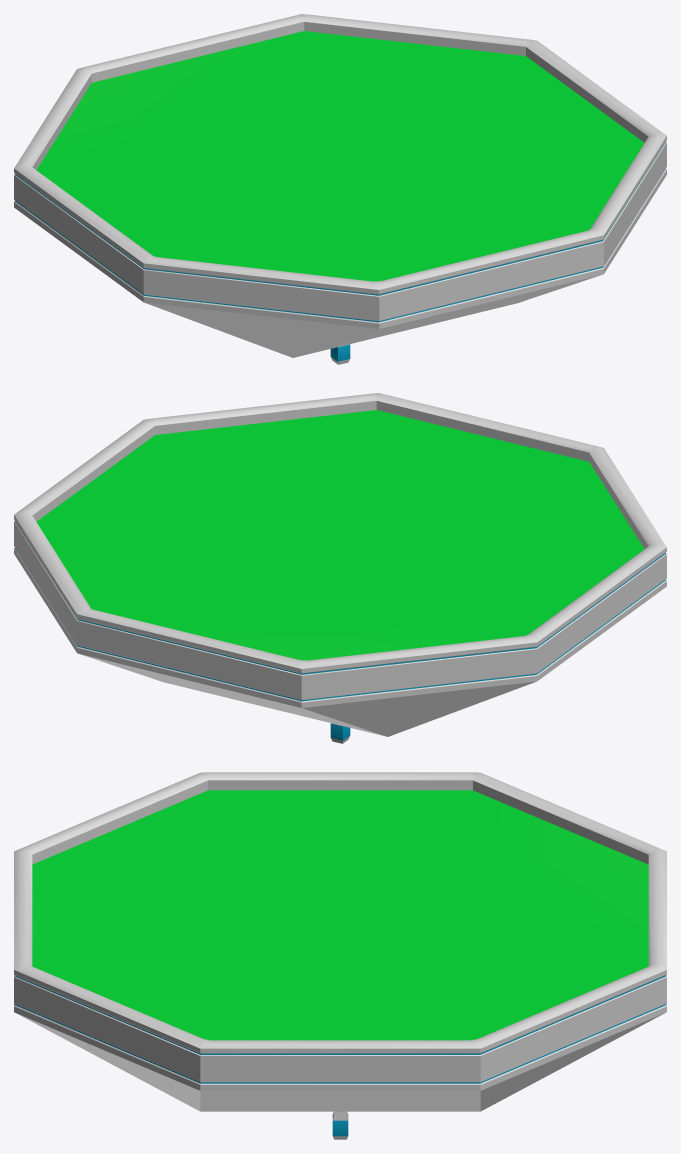
File: SkyIsland.fbx
3 views of the same model, one above another, from view 1: azimuth 30°, elevation 25°; view 2: azimuth 150°, elevation 25°; view 3: azimuth 270°, elevation 25° (orthographic). The views are drawn at different scales.
Parts seen in each view (by area): view 1: Cube; view 2: Cube; view 3: Cube.
Part boxes in pixels (x1,y1,x2,y2): Cube: (14,14,666,364); Cube: (14,393,666,743); Cube: (14,772,666,1139).
Bounding box in the file's own units: 39.49 × 15.26 × 39.49.
